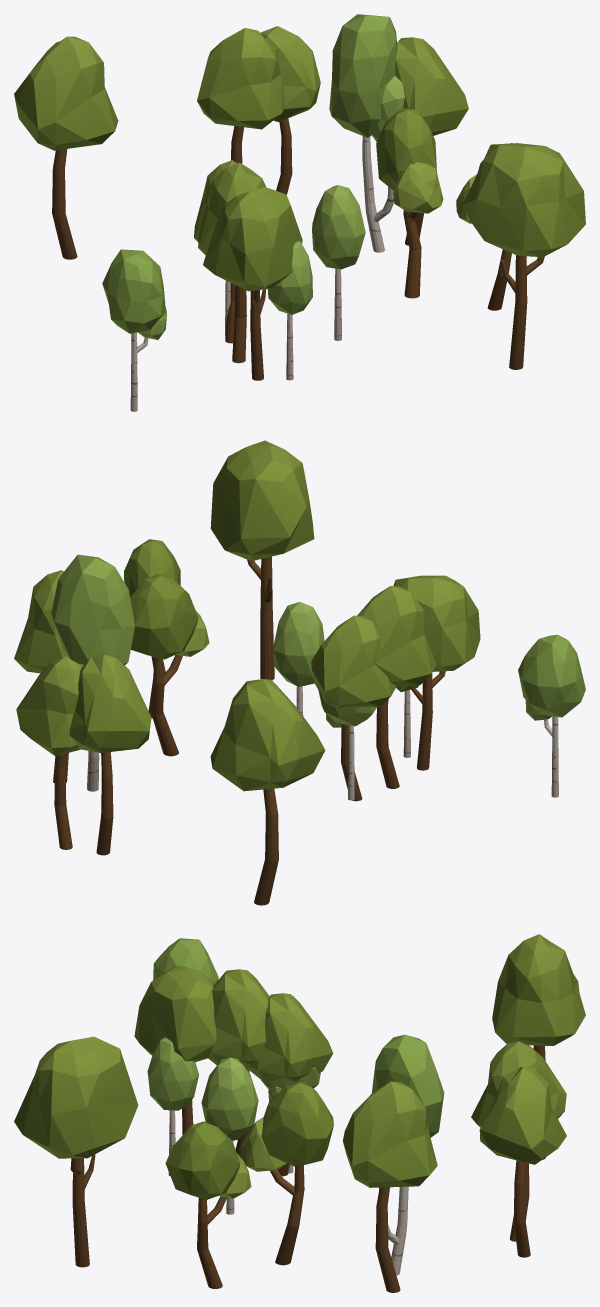
Rendered from Trees7.gltf.
The picture shows the model from 3 angles, top to bottom: view 1: azimuth 30°, elevation 25°; view 2: azimuth 150°, elevation 25°; view 3: azimuth 270°, elevation 25°; orthographic projection.
Visible parts, largest first — view 1: Beechtree3 - copy.040, Beechtree1 - copy.039, BirchTree2 - copy.035, Beechtree3 - copy.014, Beechtree1 - copy.055, Beechtree2 - copy.032, BirchTree3 - copy.008, Beechtree1 - copy.016, BirchTree1 - copy.006, Beechtree1 - copy.025, Beechtree1 - copy.053, BirchTree1 - copy.023 (+2 smaller); view 2: Beechtree3 - copy.040, Beechtree1 - copy.039, BirchTree2 - copy.035, Beechtree1 - copy.055, Beechtree2 - copy.032, Beechtree3 - copy.014, Beechtree1 - copy.041, Beechtree1 - copy.053, Beechtree1 - copy.025, BirchTree3 - copy.008, BirchTree1 - copy.006, Beechtree1 - copy.016 (+2 smaller); view 3: Beechtree3 - copy.040, Beechtree1 - copy.016, Beechtree1 - copy.039, Beechtree2 - copy.032, Beechtree1 - copy.025, Beechtree3 - copy.014, Beechtree2 - copy.019, Beechtree1 - copy.041, Beechtree1 - copy.053, BirchTree2 - copy.035, BirchTree1 - copy.006, Beechtree1 - copy.055 (+3 smaller).
Boxes of the visible parts, x1=… form: Beechtree3 - copy.040: x1=462, y1=143, x2=585, y2=369; Beechtree1 - copy.039: x1=14, y1=36, x2=118, y2=259; BirchTree2 - copy.035: x1=329, y1=14, x2=404, y2=252; Beechtree3 - copy.014: x1=203, y1=187, x2=302, y2=380; Beechtree1 - copy.055: x1=197, y1=28, x2=284, y2=163; Beechtree2 - copy.032: x1=376, y1=108, x2=443, y2=298; BirchTree3 - copy.008: x1=102, y1=249, x2=166, y2=411; Beechtree1 - copy.016: x1=395, y1=37, x2=468, y2=245; BirchTree1 - copy.006: x1=312, y1=185, x2=365, y2=340; Beechtree1 - copy.025: x1=260, y1=26, x2=320, y2=194; Beechtree1 - copy.053: x1=198, y1=162, x2=265, y2=363; BirchTree1 - copy.023: x1=267, y1=241, x2=312, y2=380; Beechtree3 - copy.040: x1=210, y1=440, x2=314, y2=680; Beechtree1 - copy.039: x1=210, y1=679, x2=325, y2=905; BirchTree2 - copy.035: x1=51, y1=554, x2=134, y2=791; Beechtree1 - copy.055: x1=69, y1=654, x2=151, y2=855; Beechtree2 - copy.032: x1=130, y1=574, x2=209, y2=756; Beechtree3 - copy.014: x1=393, y1=575, x2=480, y2=770; Beechtree1 - copy.041: x1=311, y1=615, x2=395, y2=801; Beechtree1 - copy.053: x1=357, y1=586, x2=436, y2=788; Beechtree1 - copy.025: x1=16, y1=656, x2=83, y2=849; BirchTree3 - copy.008: x1=518, y1=634, x2=585, y2=797; BirchTree1 - copy.006: x1=273, y1=602, x2=324, y2=715; Beechtree1 - copy.016: x1=14, y1=570, x2=68, y2=782; Beechtree3 - copy.040: x1=14, y1=1036, x2=138, y2=1267; Beechtree1 - copy.016: x1=343, y1=1081, x2=437, y2=1292; Beechtree1 - copy.039: x1=492, y1=934, x2=585, y2=1159; Beechtree2 - copy.032: x1=240, y1=1082, x2=333, y2=1265; Beechtree1 - copy.025: x1=479, y1=1067, x2=566, y2=1257; Beechtree3 - copy.014: x1=134, y1=965, x2=216, y2=1134; Beechtree2 - copy.019: x1=165, y1=1121, x2=251, y2=1288; Beechtree1 - copy.041: x1=245, y1=993, x2=333, y2=1176; Beechtree1 - copy.053: x1=208, y1=969, x2=269, y2=1157; BirchTree2 - copy.035: x1=371, y1=1034, x2=444, y2=1275; BirchTree1 - copy.006: x1=201, y1=1057, x2=258, y2=1214; Beechtree1 - copy.055: x1=471, y1=1041, x2=566, y2=1241.
Size of the model in its own units: 22.01 by 11 by 24.2.
Materials: 6 (6 with a texture image).
